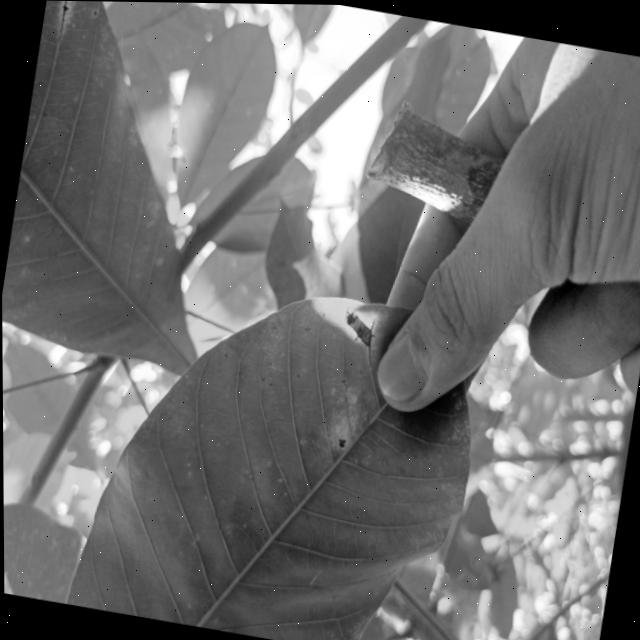Corynespora: (338, 303, 380, 364)
